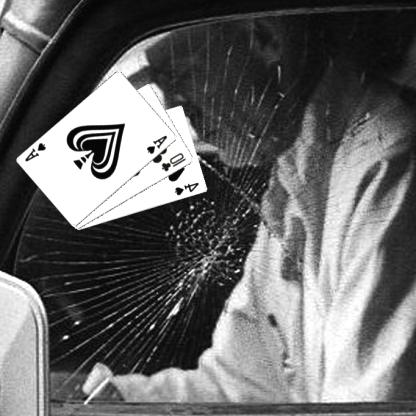10C: (161, 150, 189, 173)
4S: (174, 180, 202, 197)
AS: (146, 132, 171, 156), (24, 140, 49, 163)
